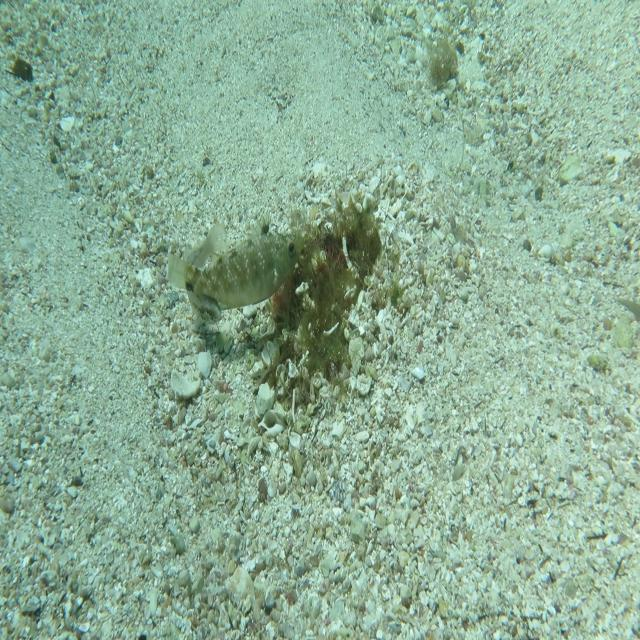FAN: (167, 210, 305, 311)
core_nest: (321, 225, 375, 267)
female: (182, 220, 230, 326)
nest: (260, 178, 400, 416)
